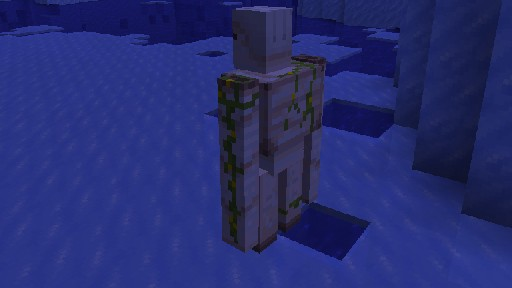iron_golem: (216, 5, 325, 253)
